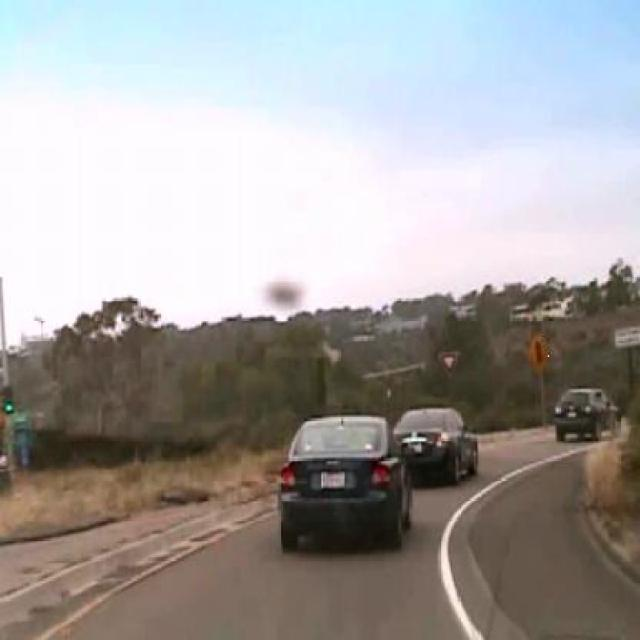merge: (524, 328, 550, 372)
